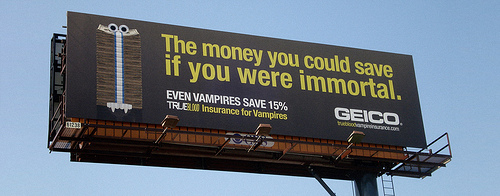Geico: (330, 104, 405, 130)
